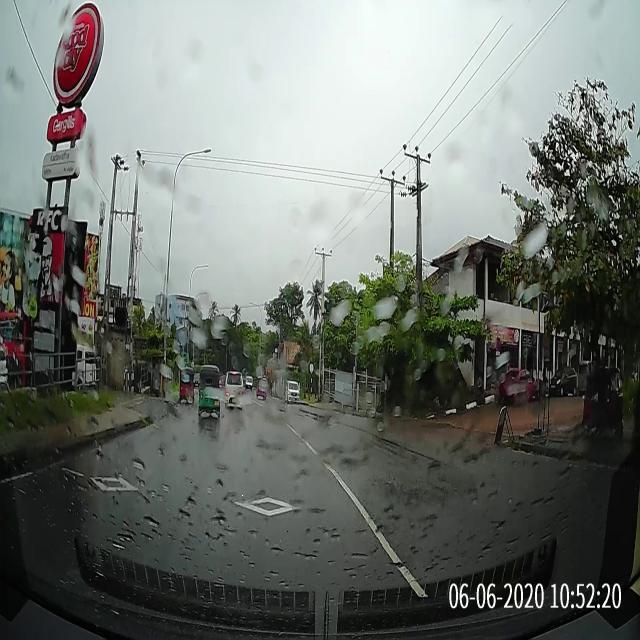diamond: (160, 470, 392, 545)
